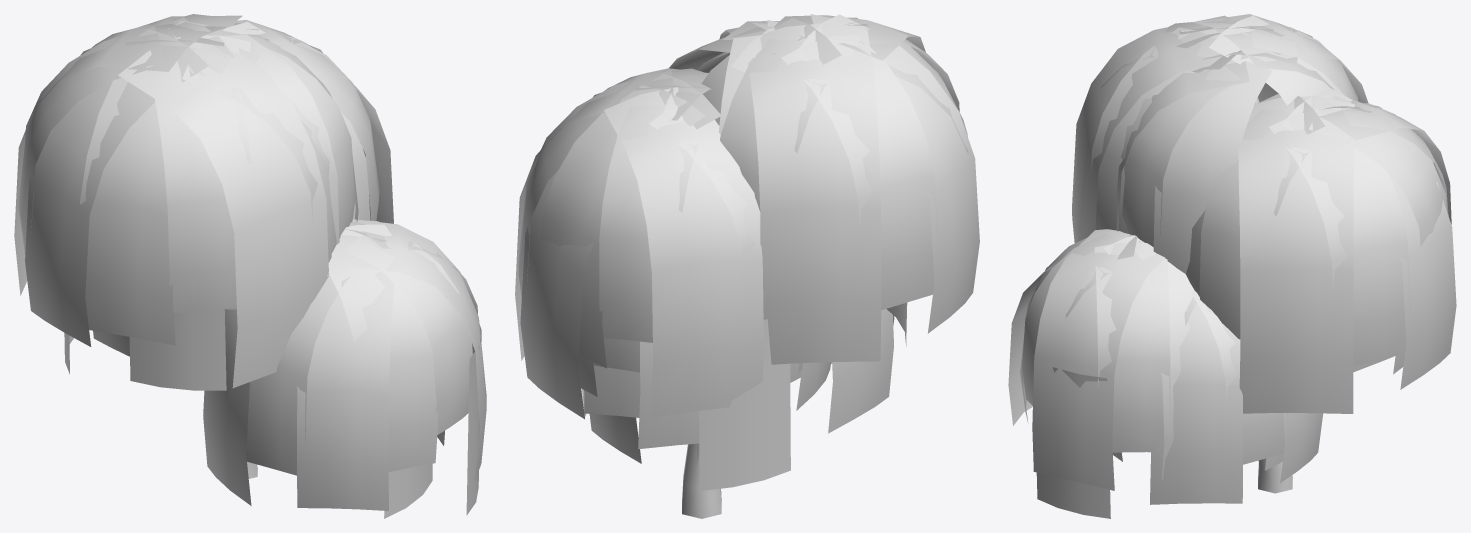
The model's file is STWillow3.glb.
3 renders of one model, left to right at view 1: azimuth 30°, elevation 25°; view 2: azimuth 150°, elevation 25°; view 3: azimuth 270°, elevation 25°, orthographic. The views are drawn at different scales.
Visible parts, largest first — view 1: WillowTree3; view 2: WillowTree3; view 3: WillowTree3.
Part boxes in pixels (x1,y1,x2,y2): WillowTree3: (14, 14, 486, 518); WillowTree3: (515, 14, 979, 518); WillowTree3: (1008, 14, 1456, 518).
Size of the model in its own units: 14.1 by 16.96 by 16.41.
2 materials, 1 textured.
